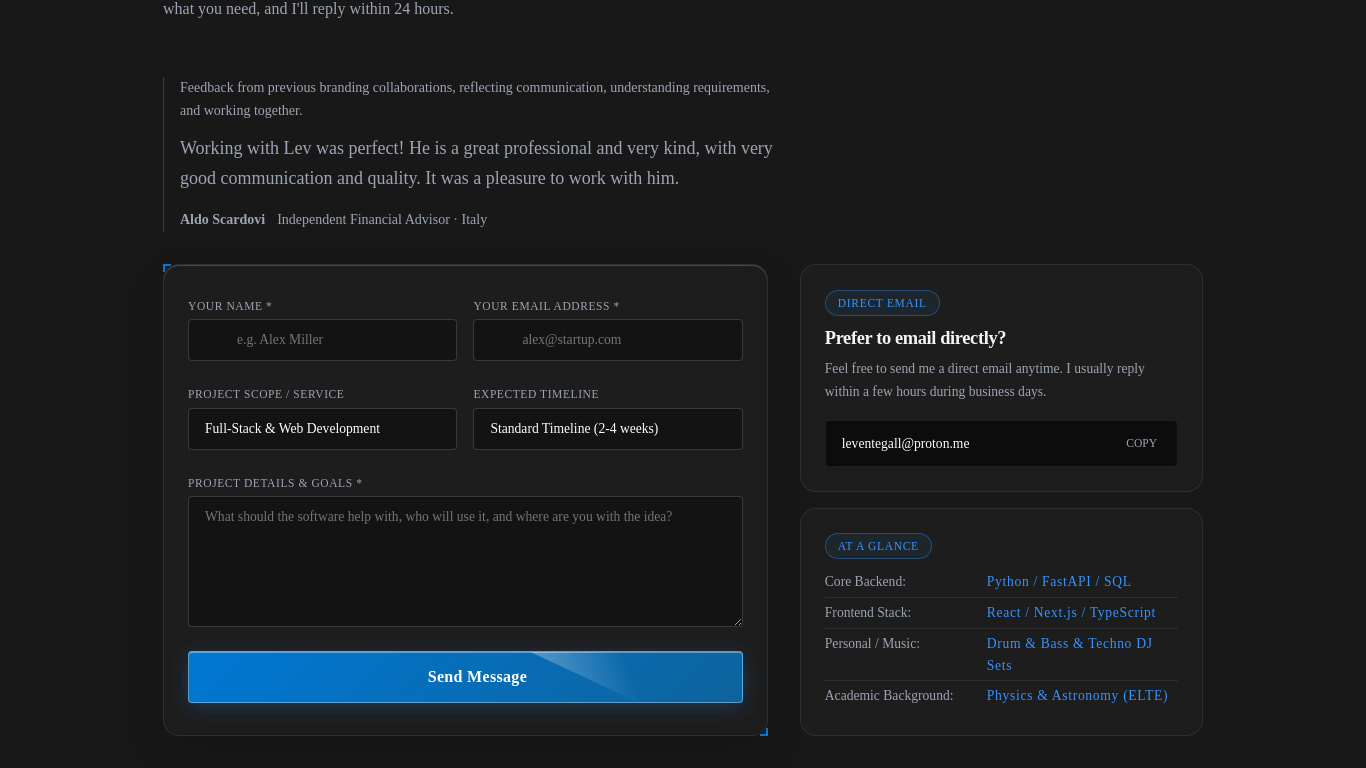
ContactForm Component › shows client-side validation errors when submitting empty fields
(page scrolled)
Click the button "Send Message". click: (465, 677)
box: x1=188 y1=651 x2=743 y2=703
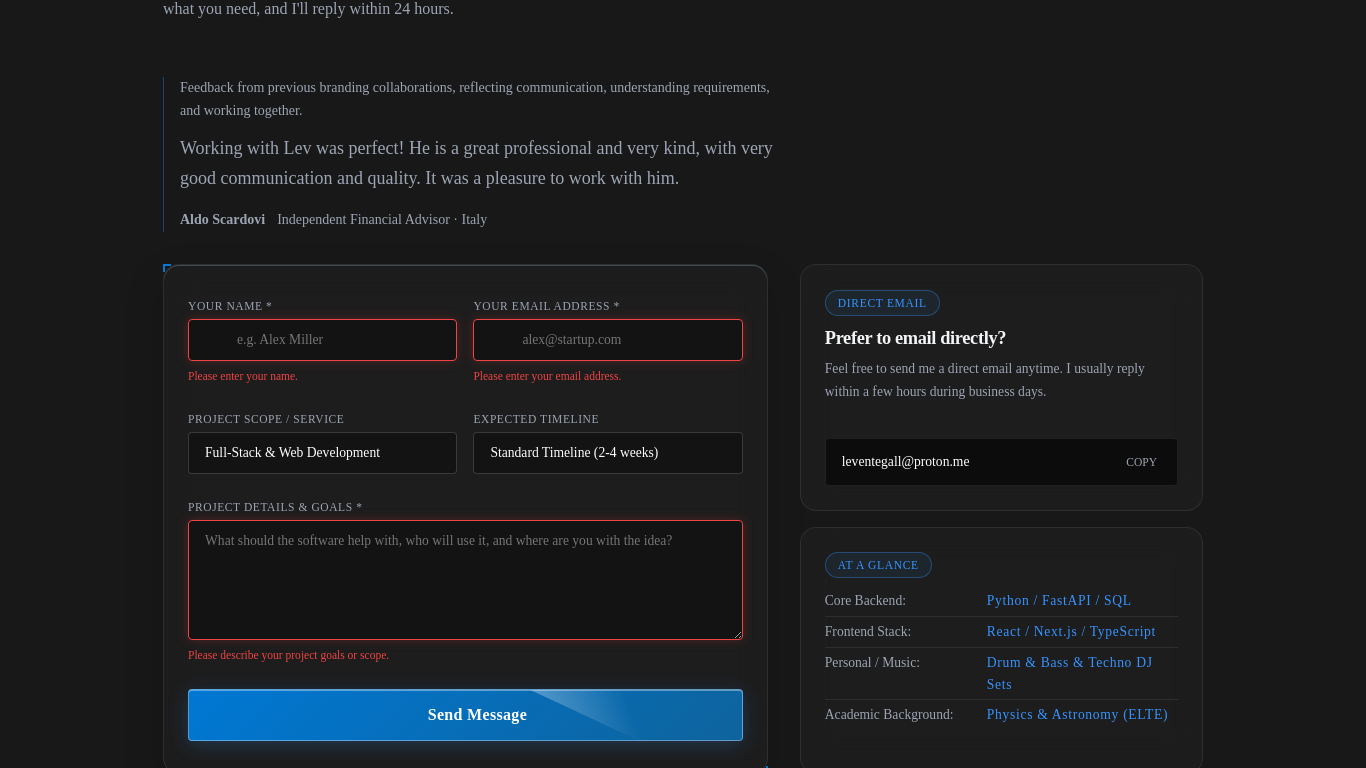
Expected: the text "Please enter your name." is shown, x1=188 y1=370 x2=298 y2=382
Expected: the text "Please enter your email address." is shown, x1=473 y1=370 x2=622 y2=382
Expected: the text "Please describe your project goals or scope." is shown, x1=188 y1=649 x2=389 y2=661
